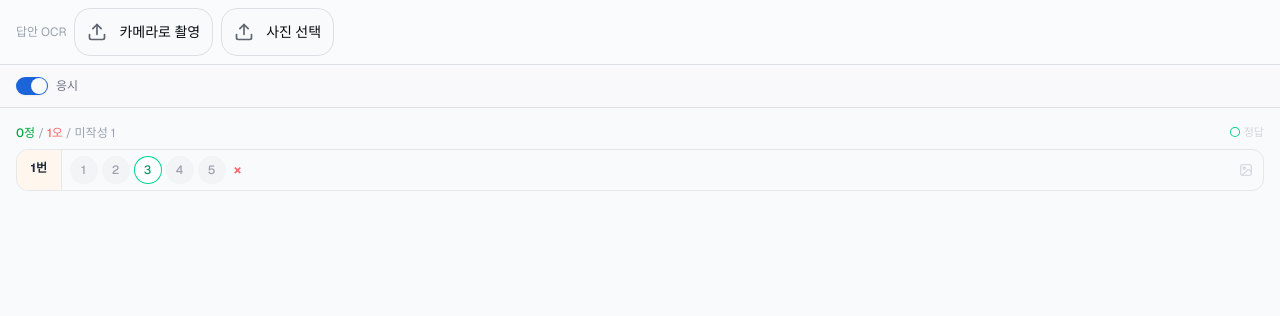
Test: ExamSheetContent — 객관식 압축 정오표 › 원본 이미지 아이콘을 누르면 미리보기가 열린다
The image size is (1280, 316).
Expected: the text "원본 페이지 2" is not shown
Click the button titled "원본 페이지 보기": (1246, 170) [1237,161,1255,179]
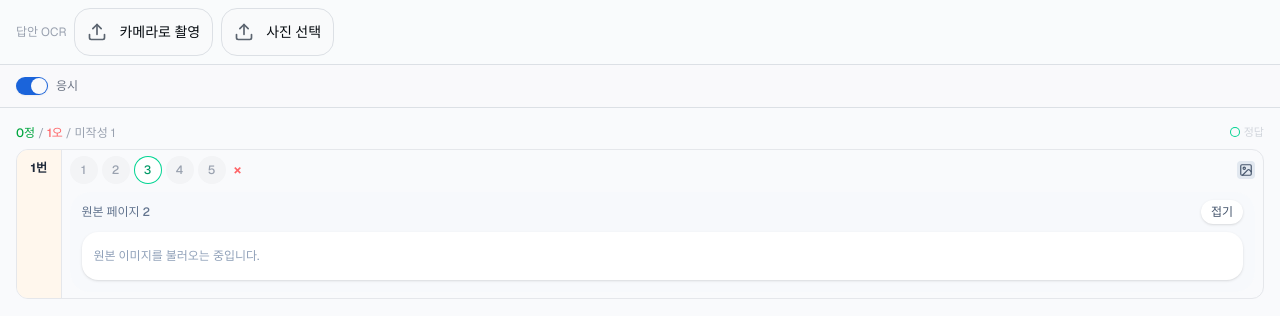
Expected: the text "원본 페이지 2" is shown, [82,204,150,220]
